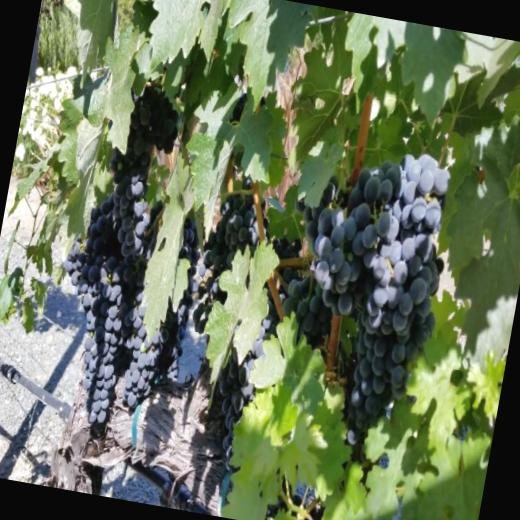Orange: (169, 116, 466, 485), (38, 78, 227, 443)
